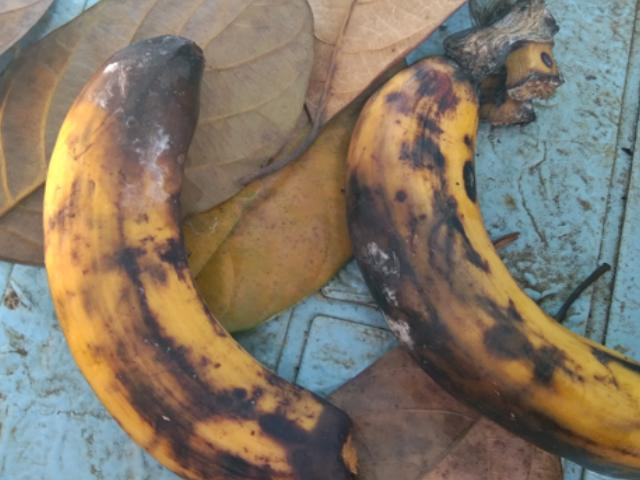rotten: (27, 17, 363, 479), (328, 50, 639, 479)
